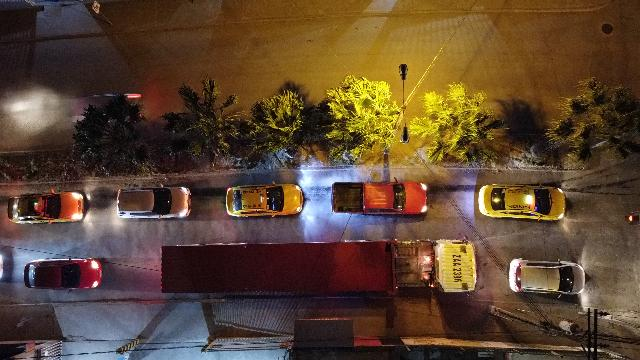Vehiculo: (332, 180, 428, 216), (478, 184, 566, 221), (509, 258, 585, 298), (226, 182, 304, 217), (7, 190, 84, 223), (24, 258, 102, 290), (116, 187, 192, 219)
